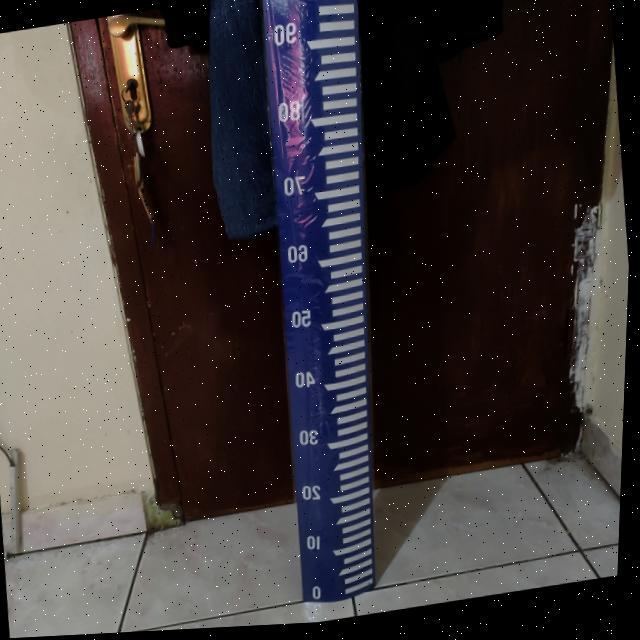water-meter: (224, 0, 436, 621)
